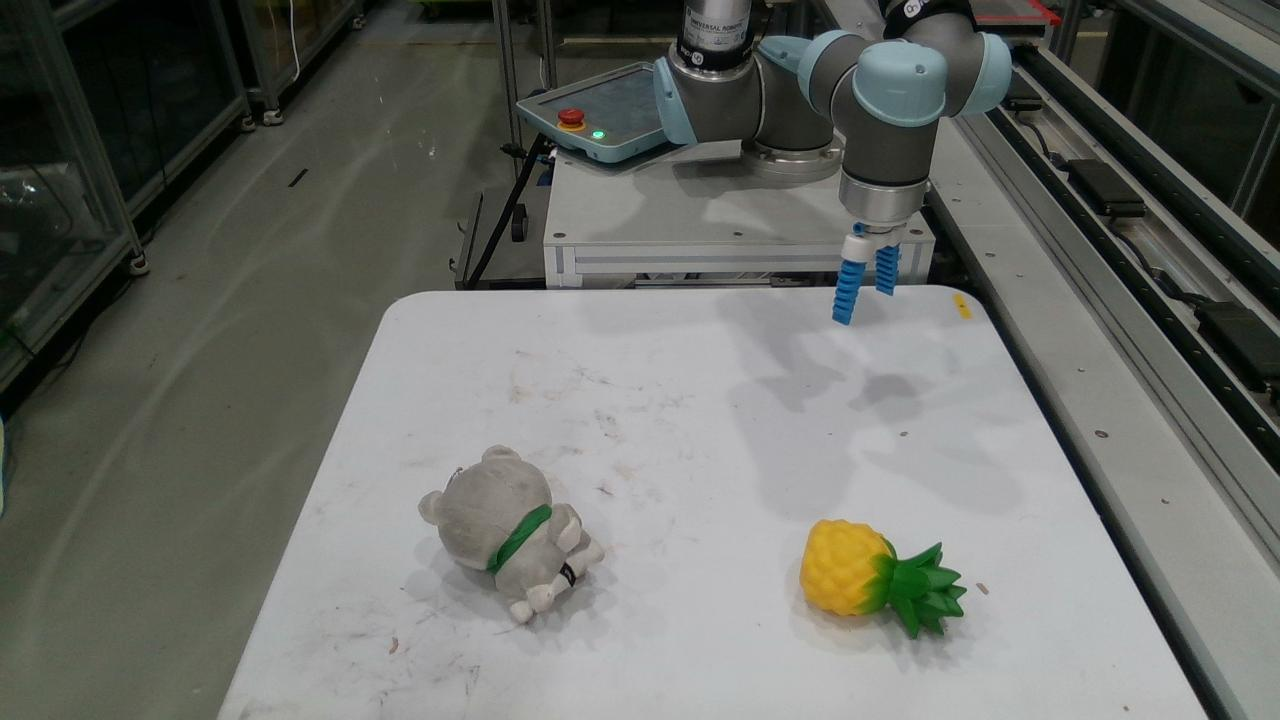UR5: (652, 0, 1012, 263)
gripper_left: (832, 259, 867, 325)
gripper_right: (875, 243, 901, 296)
target: (419, 445, 604, 625), (799, 518, 968, 640)
